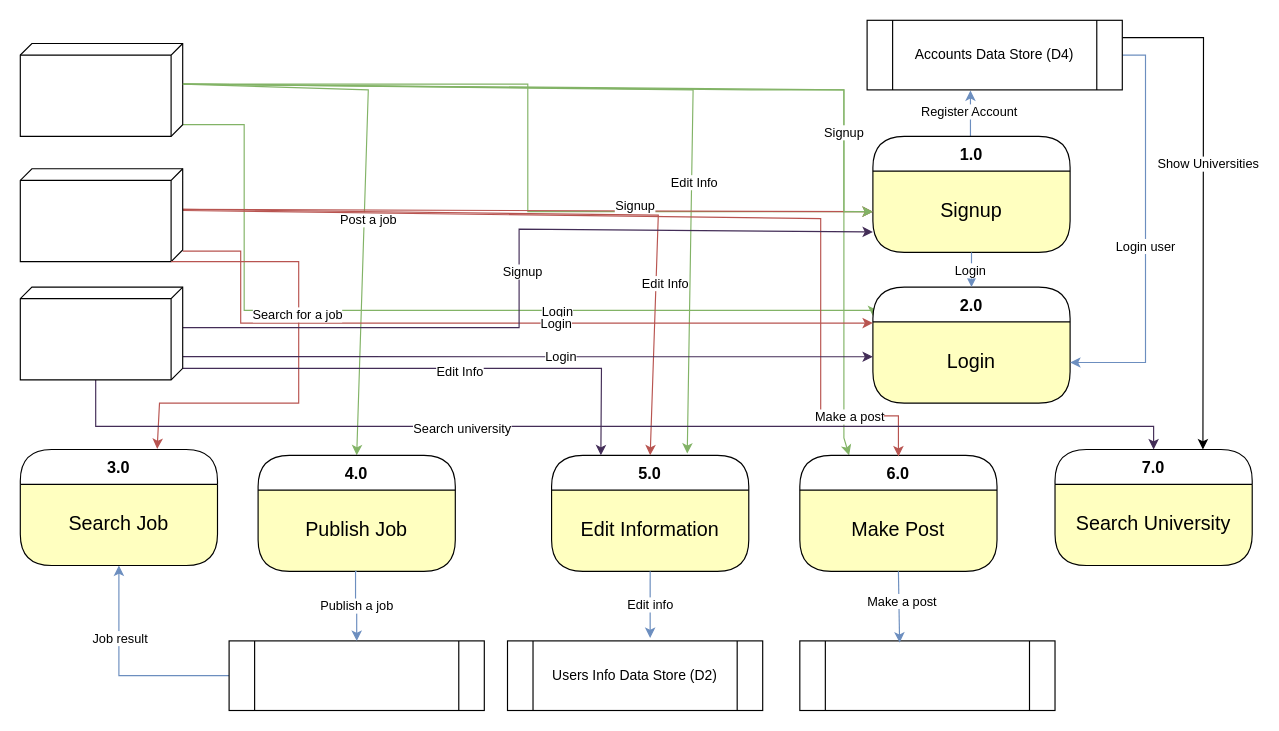
Image size: 1279x731. Some labels were removed from this diagram. The centre of each missing label's shape, as x and y in pixels:
Jobs Data Store (D3): (x=356, y=675)
Posts Data Store (D1): (x=927, y=675)
Student: (x=101, y=333)
Teacher: (x=101, y=215)
University: (x=101, y=89)
